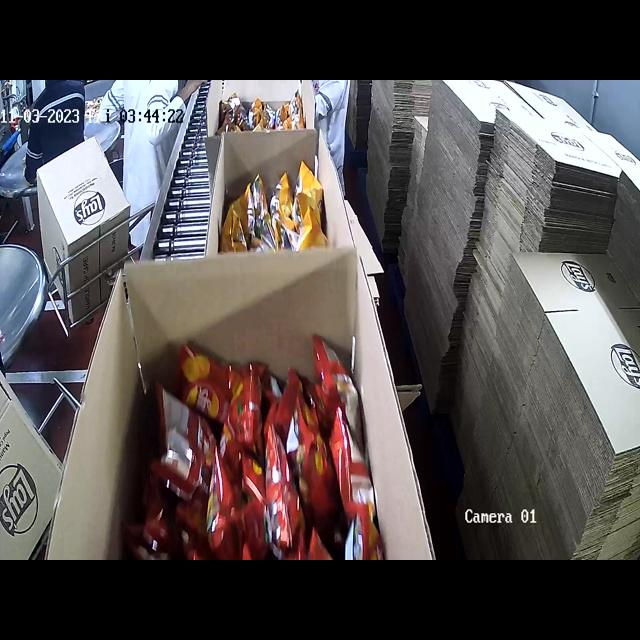cheese: (240, 174, 326, 258)
masala: (157, 366, 393, 560)
